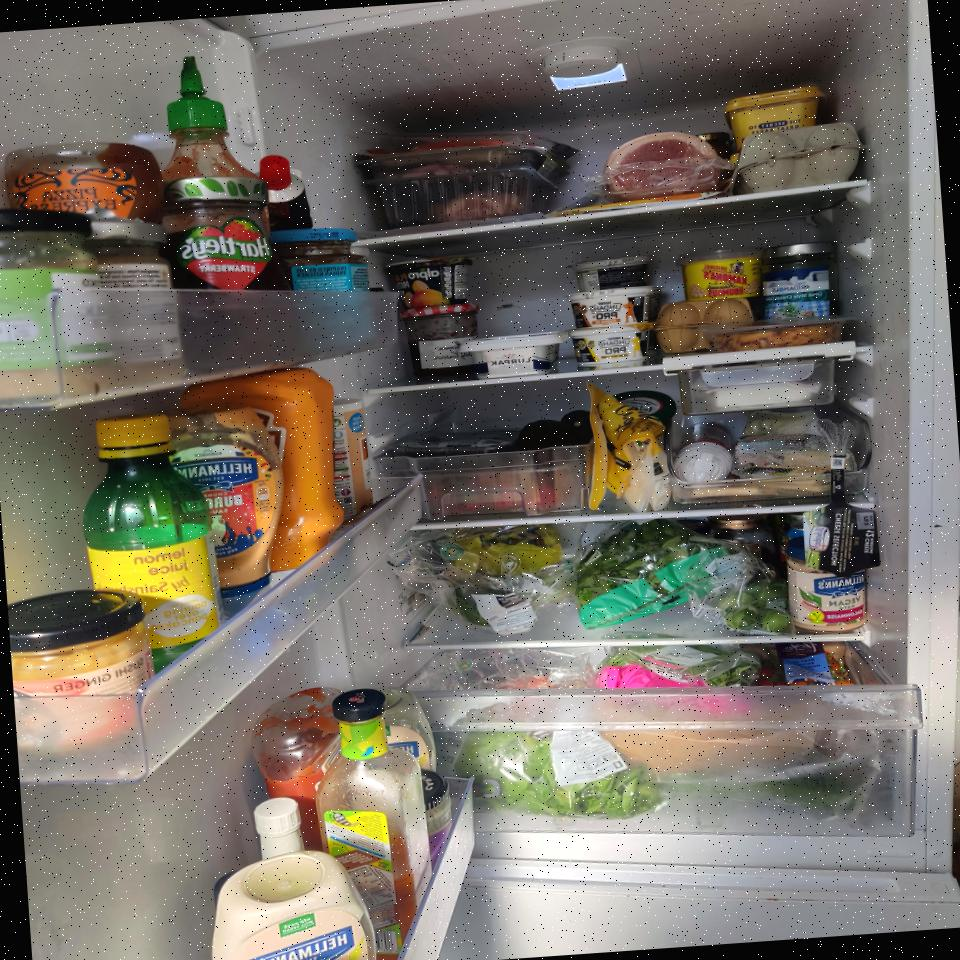Huevos: (734, 121, 868, 195), (652, 296, 753, 354)
Mantequilla: (723, 82, 823, 146)
Tomate: (750, 648, 856, 694)
ketchup: (246, 685, 358, 859)
strawberries: (416, 468, 582, 522)
